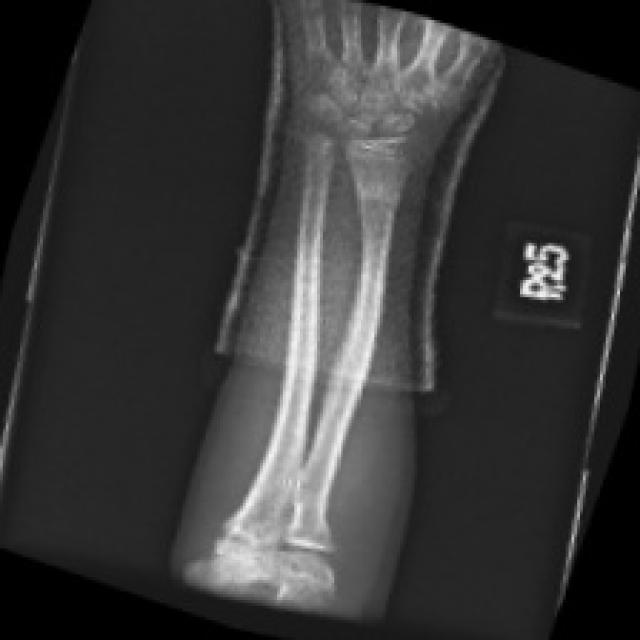fracture: (316, 267, 400, 434)
